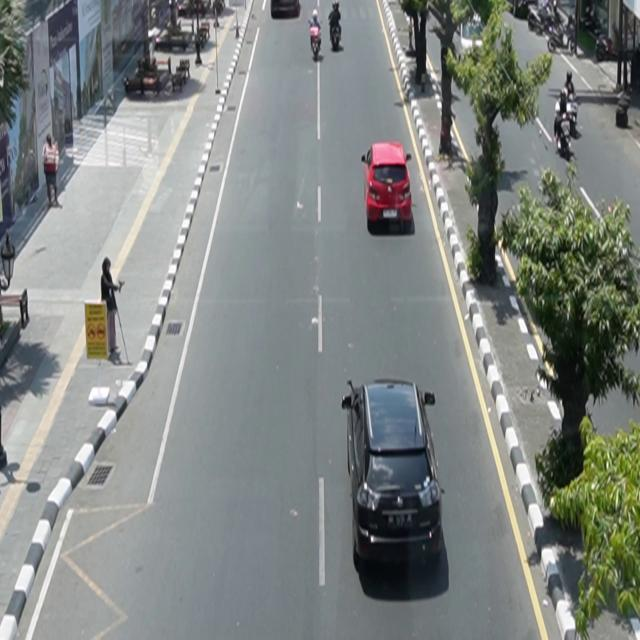car: (342, 379, 445, 568), (362, 141, 413, 234)
